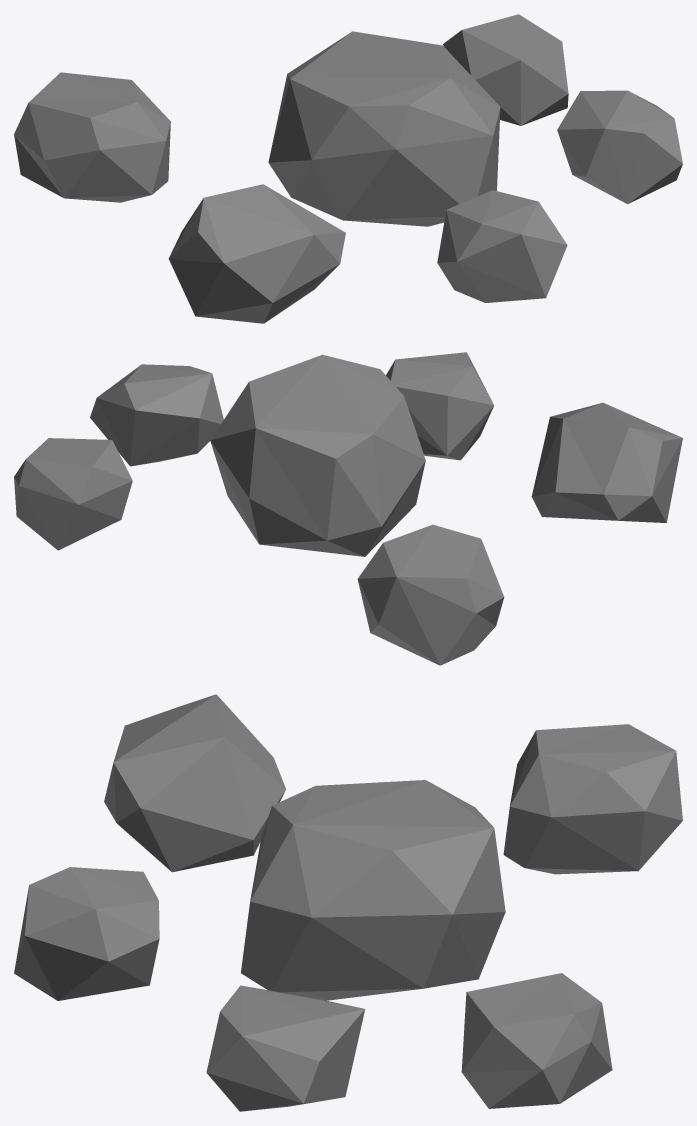
The model's file is EM_Rock02d.fbx.
3 renders of one model, top to bottom at view 1: azimuth 30°, elevation 25°; view 2: azimuth 150°, elevation 25°; view 3: azimuth 270°, elevation 25°, orthographic. The views are drawn at different scales.
Parts seen in each view (by area): view 1: EM_Rock02d_LOD0; view 2: EM_Rock02d_LOD0; view 3: EM_Rock02d_LOD0.
Boxes of the visible parts, left/top/right/bottom form: EM_Rock02d_LOD0: left=14, top=14, right=682, bottom=323; EM_Rock02d_LOD0: left=14, top=352, right=682, bottom=665; EM_Rock02d_LOD0: left=14, top=694, right=682, bottom=1111.
Size of what is drawn, in the model's own units: 0.731 by 0.1975 by 0.6464.
